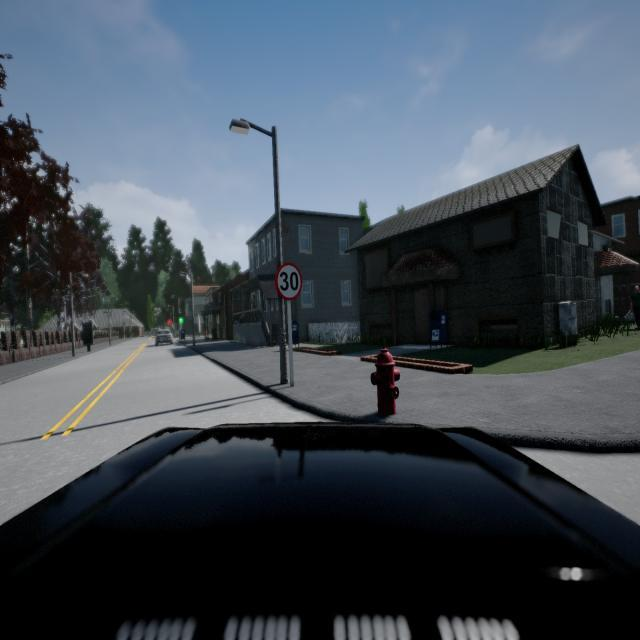Speed Limit -30-: (274, 262, 304, 302)
